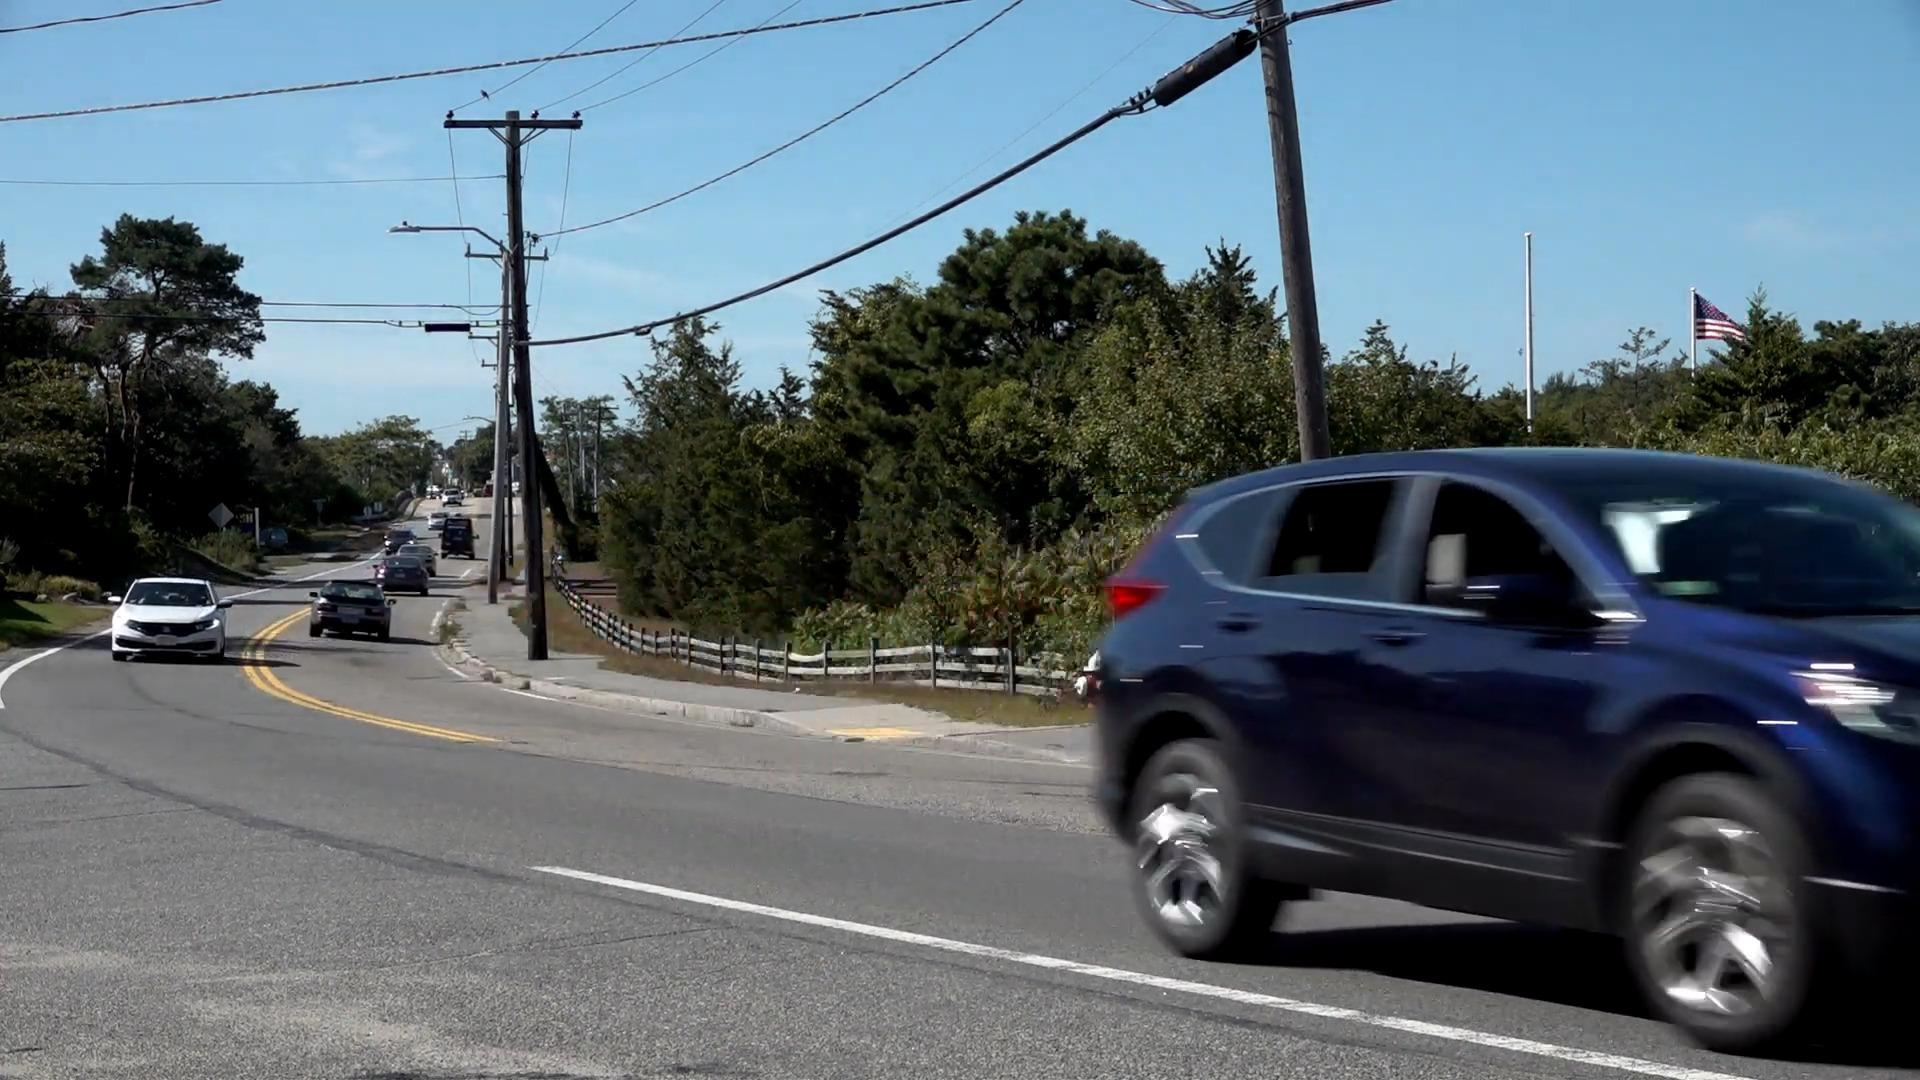sedans: (109, 576, 229, 665), (305, 578, 394, 642)
suv: (1080, 446, 1916, 1046)
